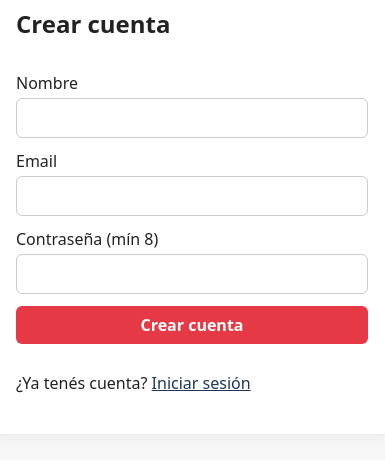
Test: <RegisterPage> › muestra el error si el registro falla
Type "Neo" into the field labelled "Nombre".
click(192, 118); type("Neo")  # box left=16, top=98, right=368, bottom=138
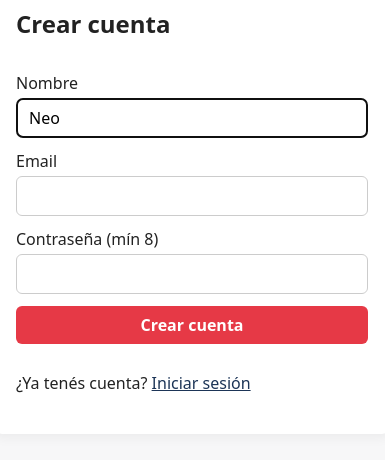
Type "neo@food.local" into the field labelled "Email".
click(192, 196); type("neo@food.local")  # box left=16, top=176, right=368, bottom=216
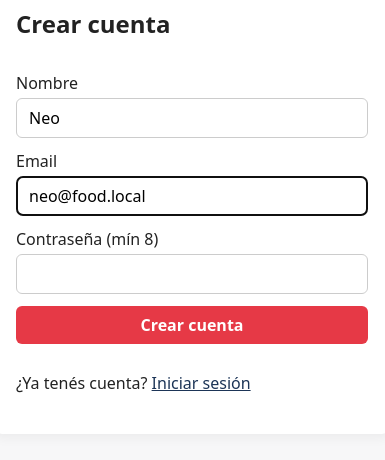
Type "pw12345678" into the password field labelled "Contraseña (mín 8)".
click(192, 274); type("pw12345678")  # box left=16, top=254, right=368, bottom=294
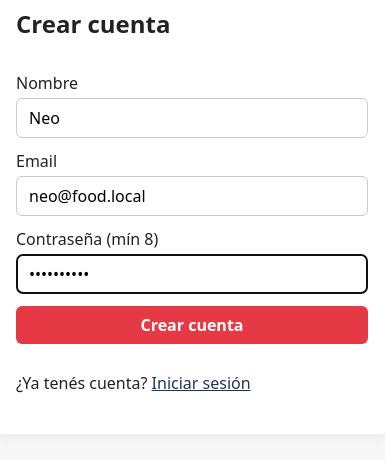
Click the button "Crear cuenta".
click(192, 325)  # box left=16, top=306, right=368, bottom=344
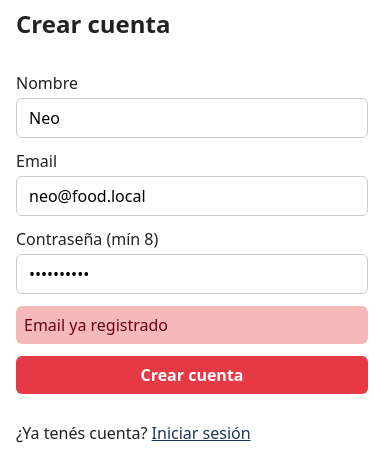
Now the text "Email ya registrado" is shown, box left=16, top=306, right=368, bottom=344
